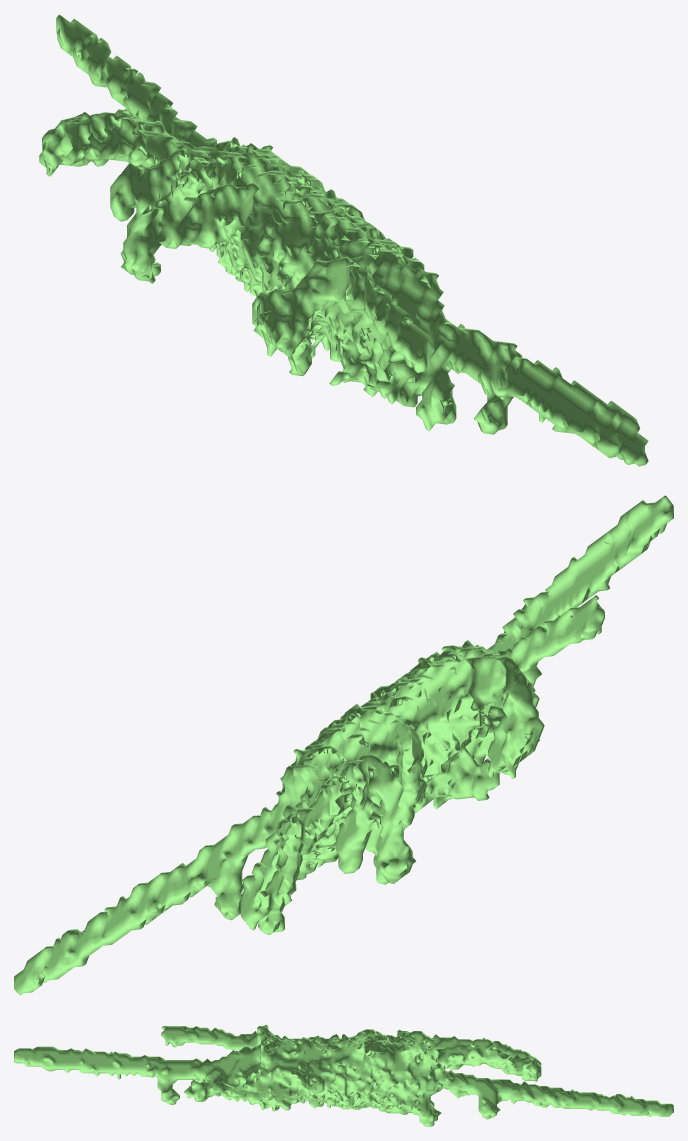
File: osteocyte_61.glb
3 renders of one model, top to bottom at view 1: azimuth 30°, elevation 25°; view 2: azimuth 150°, elevation 25°; view 3: azimuth 270°, elevation 25°, orthographic. The views are drawn at different scales.
Parts seen in each view (by area): view 1: osteocyte_61; view 2: osteocyte_61; view 3: osteocyte_61.
Part boxes in pixels (box(x1,y1,x2,y2)): osteocyte_61: box(39, 14, 648, 466); osteocyte_61: box(14, 495, 673, 995); osteocyte_61: box(14, 1024, 673, 1126).
Bounding box in the file's own units: 14.44 × 12.04 × 86.18.
